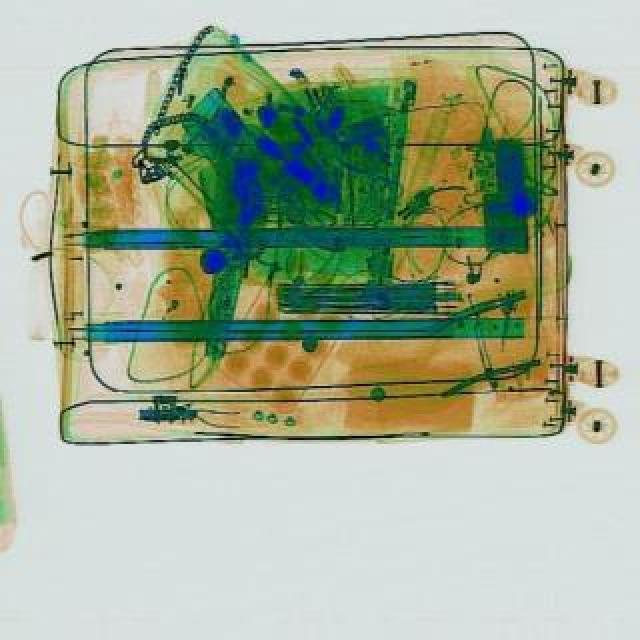wrench: (332, 128, 412, 200)
